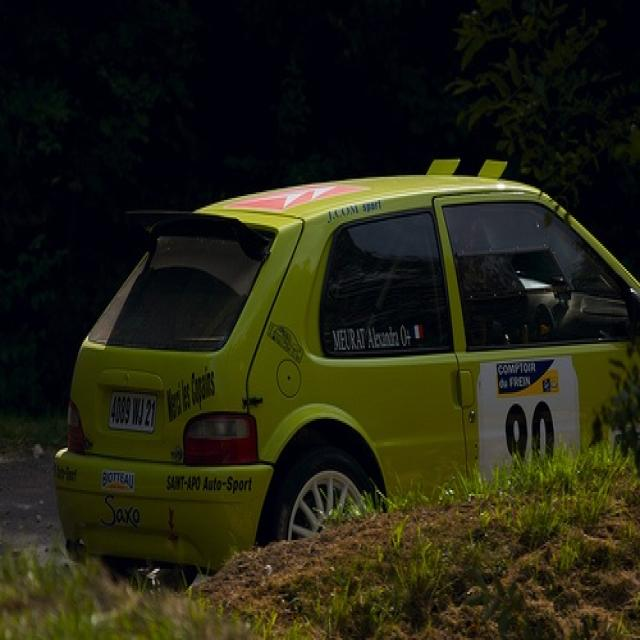car: (54, 155, 638, 570)
